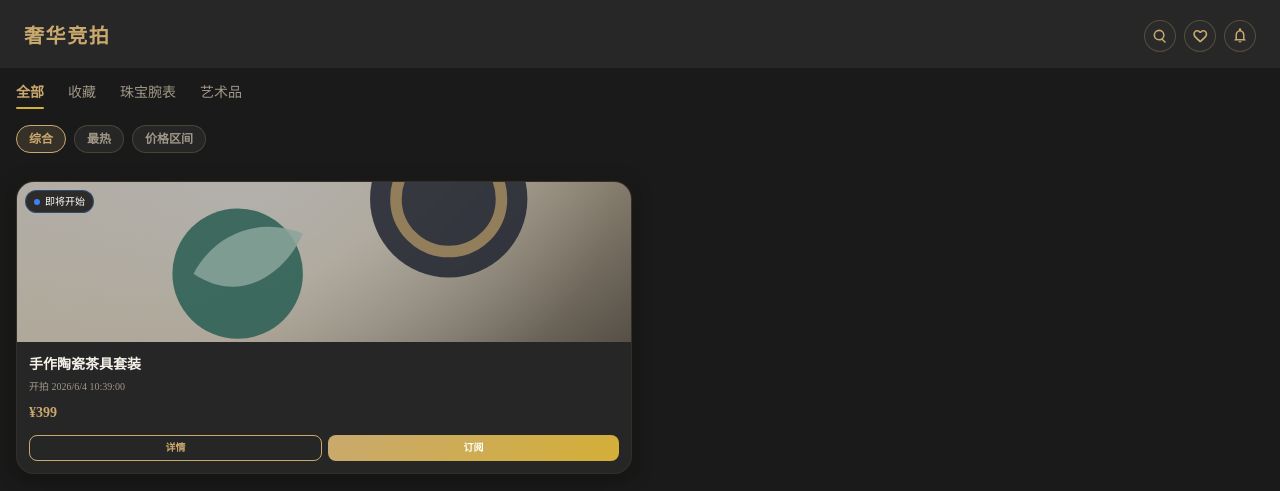
Test case: HomePage 分类联动 (T2.10) › 即将开始竞拍展示详情和订阅，不展示进入直播
Expected: the heading "手作陶瓷茶具套装" is shown, [29,357,141,372]
Expected: the text "开拍 2026/6/4 10:39:00" is shown, [29,379,125,394]
Click the button "订阅". click: x=474, y=448
box: [328,435,619,461]
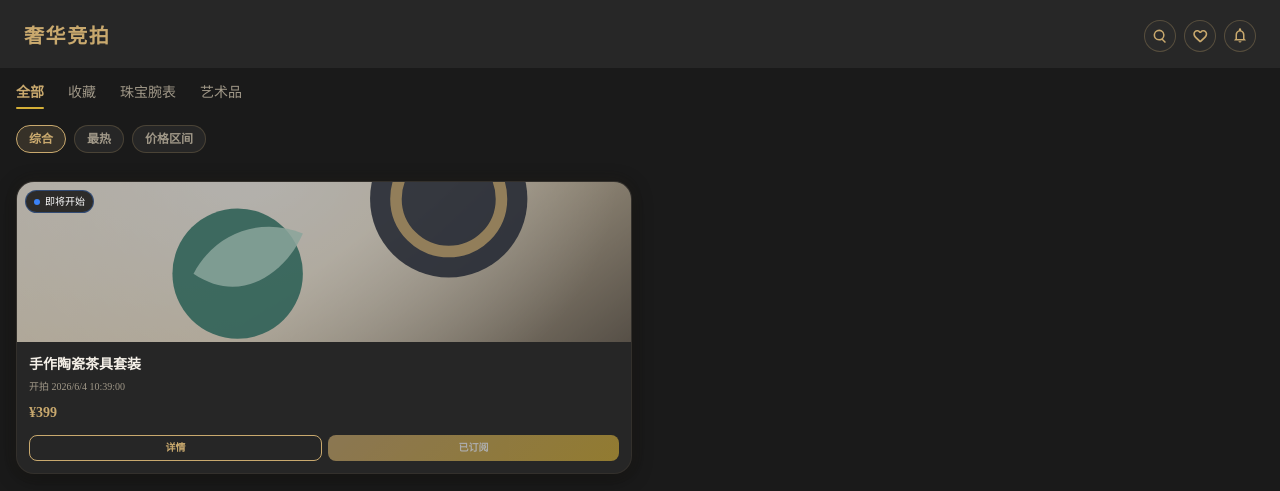
Expected: the button "已订阅" is disabled, [328,435,619,461]
